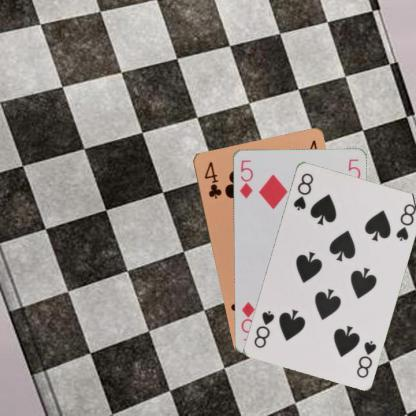4c: (201, 159, 223, 200)
5d: (237, 157, 254, 199)
8s: (353, 337, 378, 379), (291, 170, 314, 211)
